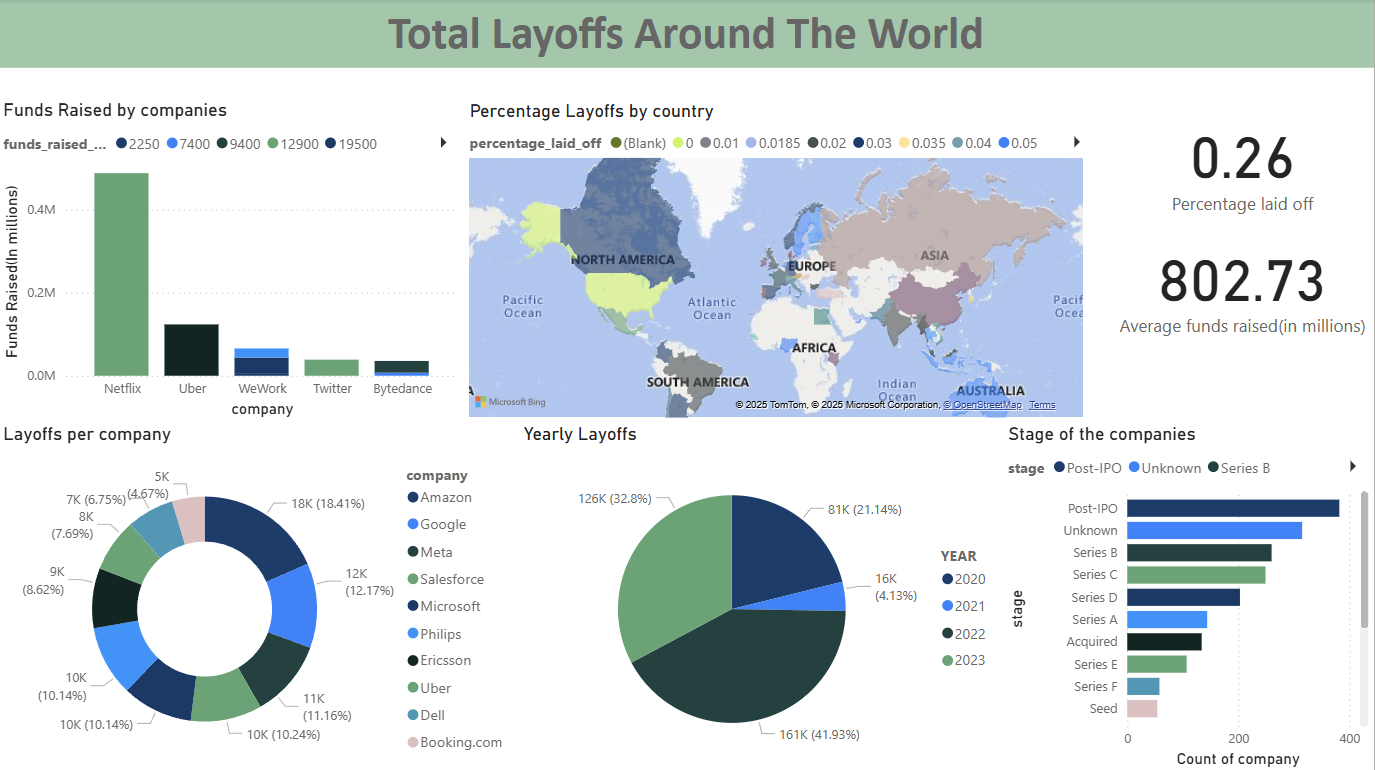

The page's visual inventory and layout, read from the dashboard file:
{"tool":"powerbi","page":{"name":"Page 1","canvas":[1280,720],"ordinal":0},"visuals":[{"type":"card","fields":{"Values":["Avg(try.percentage_laid_off)"]},"box":[1036.2,95,243.8,112.5],"z":0},{"type":"card","fields":{"Values":["Avg(try.funds_raised_millions)"]},"box":[1036.2,208.8,243.8,112.5],"z":1000},{"type":"pieChart","title":"Yearly Layoffs","fields":{"Category":["try.date.Variation.Date Hierarchy.Year","try.date.Variation.Date Hierarchy.Quarter"],"Y":["Sum(try.total_laid_off)"]},"box":[483.8,393.8,451.2,326.2],"z":2000},{"type":"filledMap","title":"Percentage Layoffs by country","fields":{"Category":["try.country"],"Series":["try.percentage_laid_off"]},"box":[433.8,93.8,580,300],"z":3000},{"type":"donutChart","title":"Layoffs per company","fields":{"Category":["try.company"],"Y":["Sum(try.total_laid_off)"]},"box":[0,393.8,483.8,326.2],"z":4000},{"type":"columnChart","title":"Funds Raised by companies","fields":{"Category":["try.company"],"Y":["Sum(try.funds_raised_millions)"],"Series":["try.funds_raised_millions"]},"box":[0,93,433.7,301.2],"z":5000},{"type":"barChart","title":"Stage of the companies","fields":{"Category":["try.stage"],"Y":["CountNonNull(try.company)"],"Series":["try.stage"]},"box":[934.9,394.2,345.3,325.6],"z":6000},{"type":"textbox","box":[0,0,1280,63.8],"z":7000}]}

Visuals, with their boxes in screenshot pixels (x1, y1, x2, y2), scaled from the page's 1280x720 canvas onto the 1375x770 screenshot:
card - Avg(try.percentage_laid_off): <box>1113,102,1374,222</box>
card - Avg(try.funds_raised_millions): <box>1113,223,1374,344</box>
"Yearly Layoffs" pieChart: <box>520,421,1004,769</box>
"Percentage Layoffs by country" filledMap: <box>466,100,1089,421</box>
"Layoffs per company" donutChart: <box>0,421,520,769</box>
"Funds Raised by companies" columnChart: <box>0,99,466,422</box>
"Stage of the companies" barChart: <box>1004,422,1374,769</box>
textbox: <box>0,0,1374,68</box>
